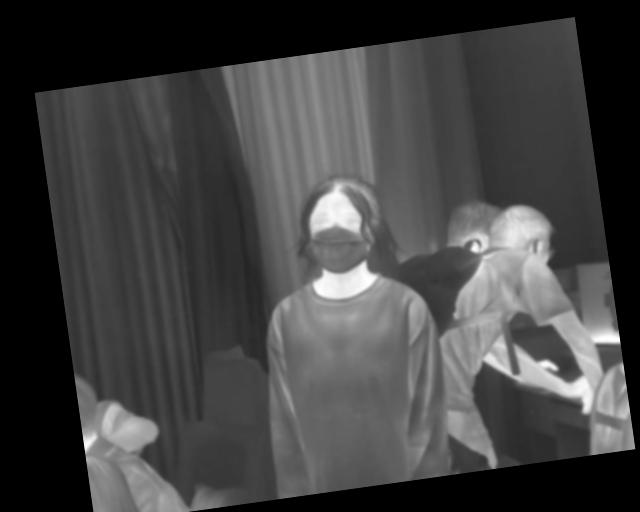face: (294, 169, 390, 278)
